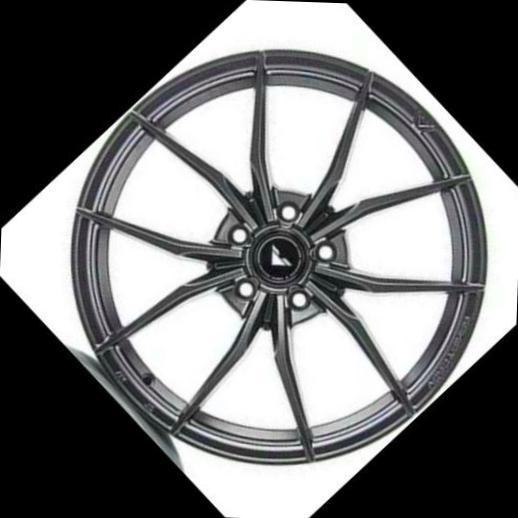hole: (218, 218, 254, 253), (269, 196, 302, 230), (228, 272, 260, 306), (308, 237, 341, 269), (281, 283, 314, 315)
